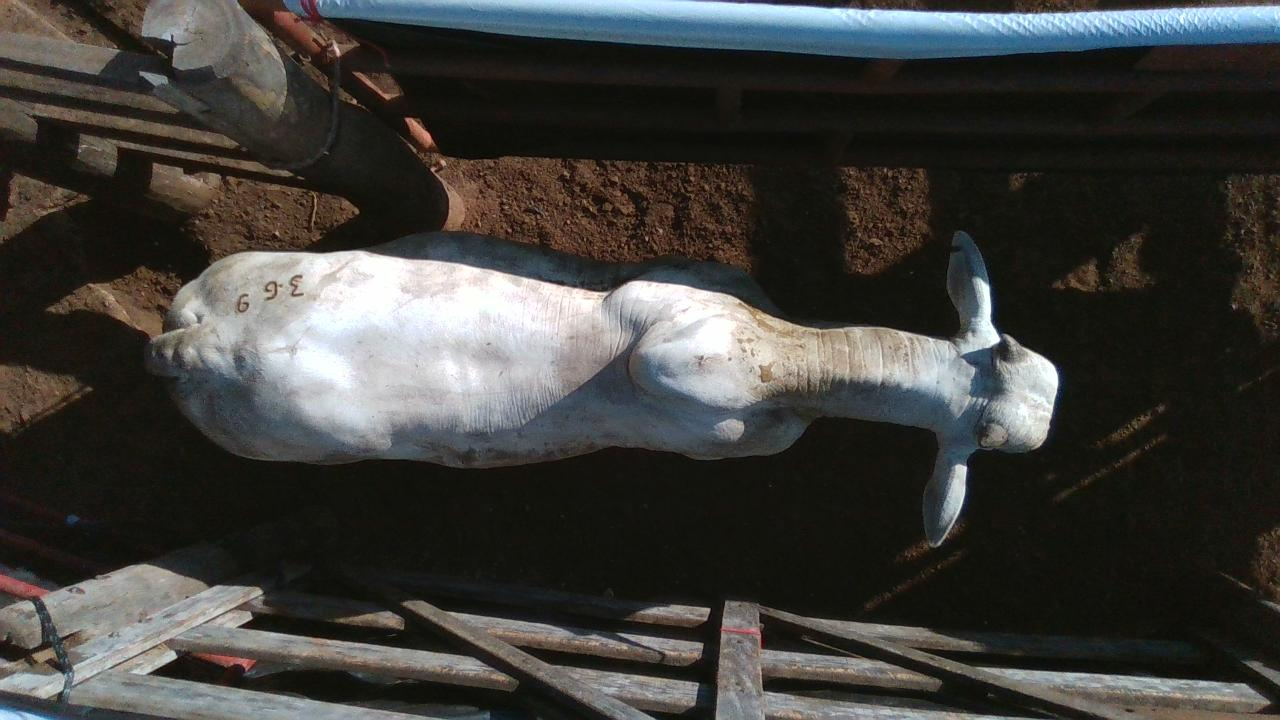cattle: (141, 226, 1061, 548)
